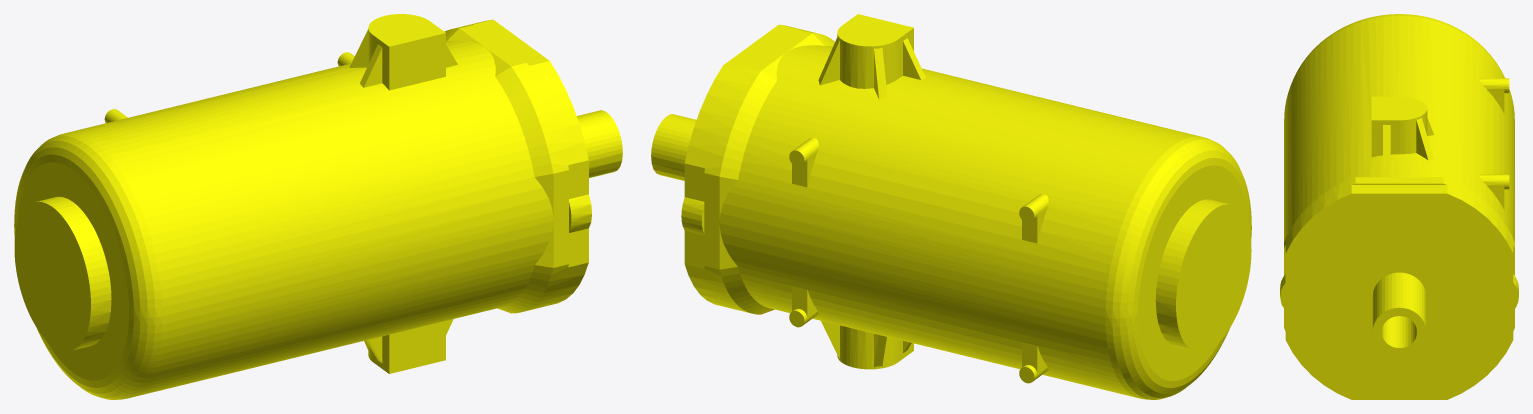
3 views of the same model, side by side, from view 1: azimuth 30°, elevation 25°; view 2: azimuth 150°, elevation 25°; view 3: azimuth 270°, elevation 25° (orthographic). The views are drawn at different scales.
Parts seen in each view (by area): view 1: node; view 2: node; view 3: node.
Boxes of the visible parts, <box> form: node: <box>14,14,622,399</box>; node: <box>651,14,1251,399</box>; node: <box>1280,14,1518,399</box>.
Size of the model in its own units: 1071 by 604 by 472.
